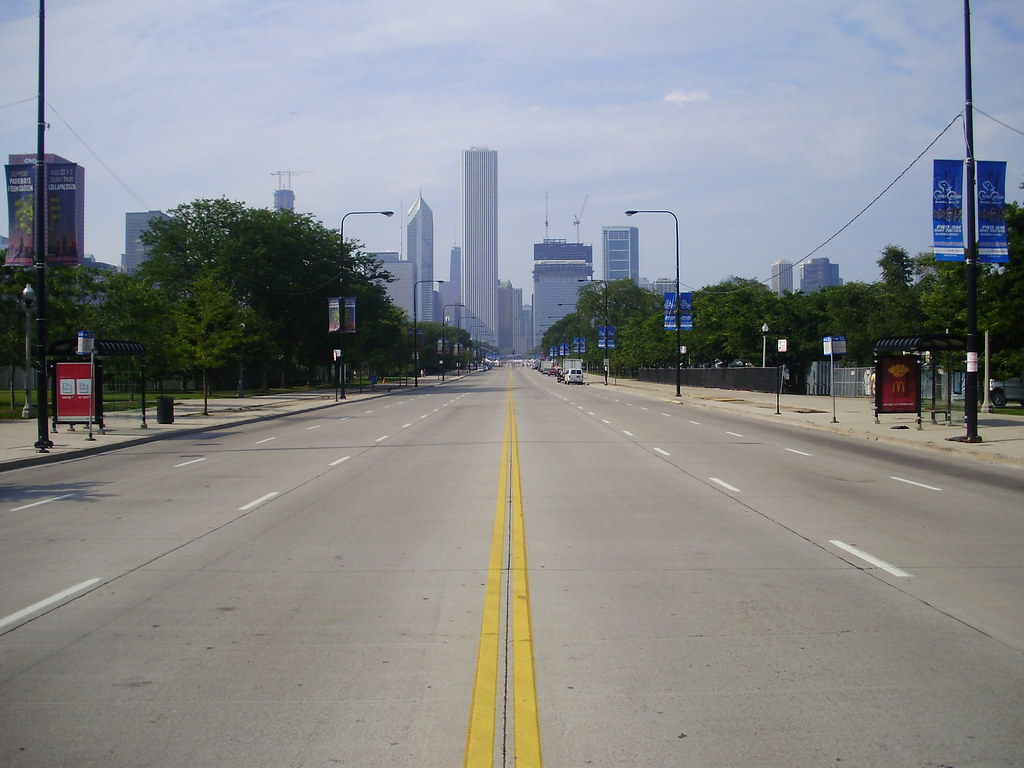car: (562, 368, 586, 385)
strada: (10, 438, 1015, 766)
